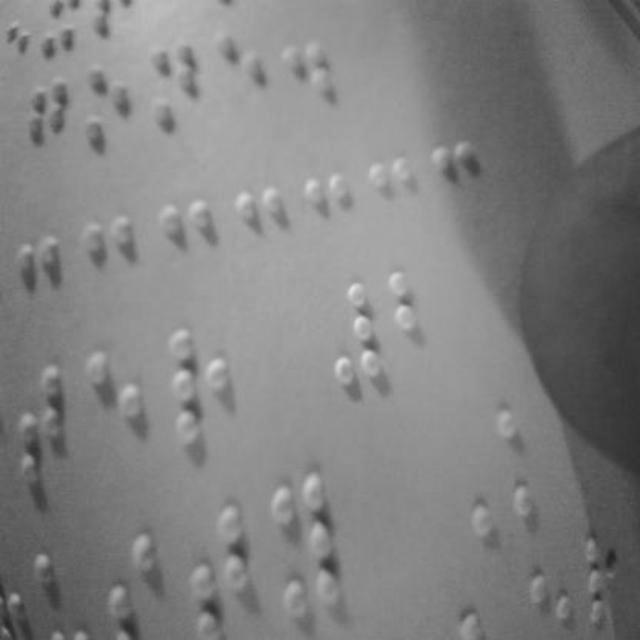braiile: (268, 470, 352, 620), (16, 362, 88, 503), (188, 490, 255, 640), (500, 400, 576, 524), (85, 338, 152, 478), (386, 263, 452, 403), (164, 323, 232, 452), (140, 36, 202, 156), (213, 18, 271, 136), (77, 62, 135, 174), (15, 74, 71, 186)
